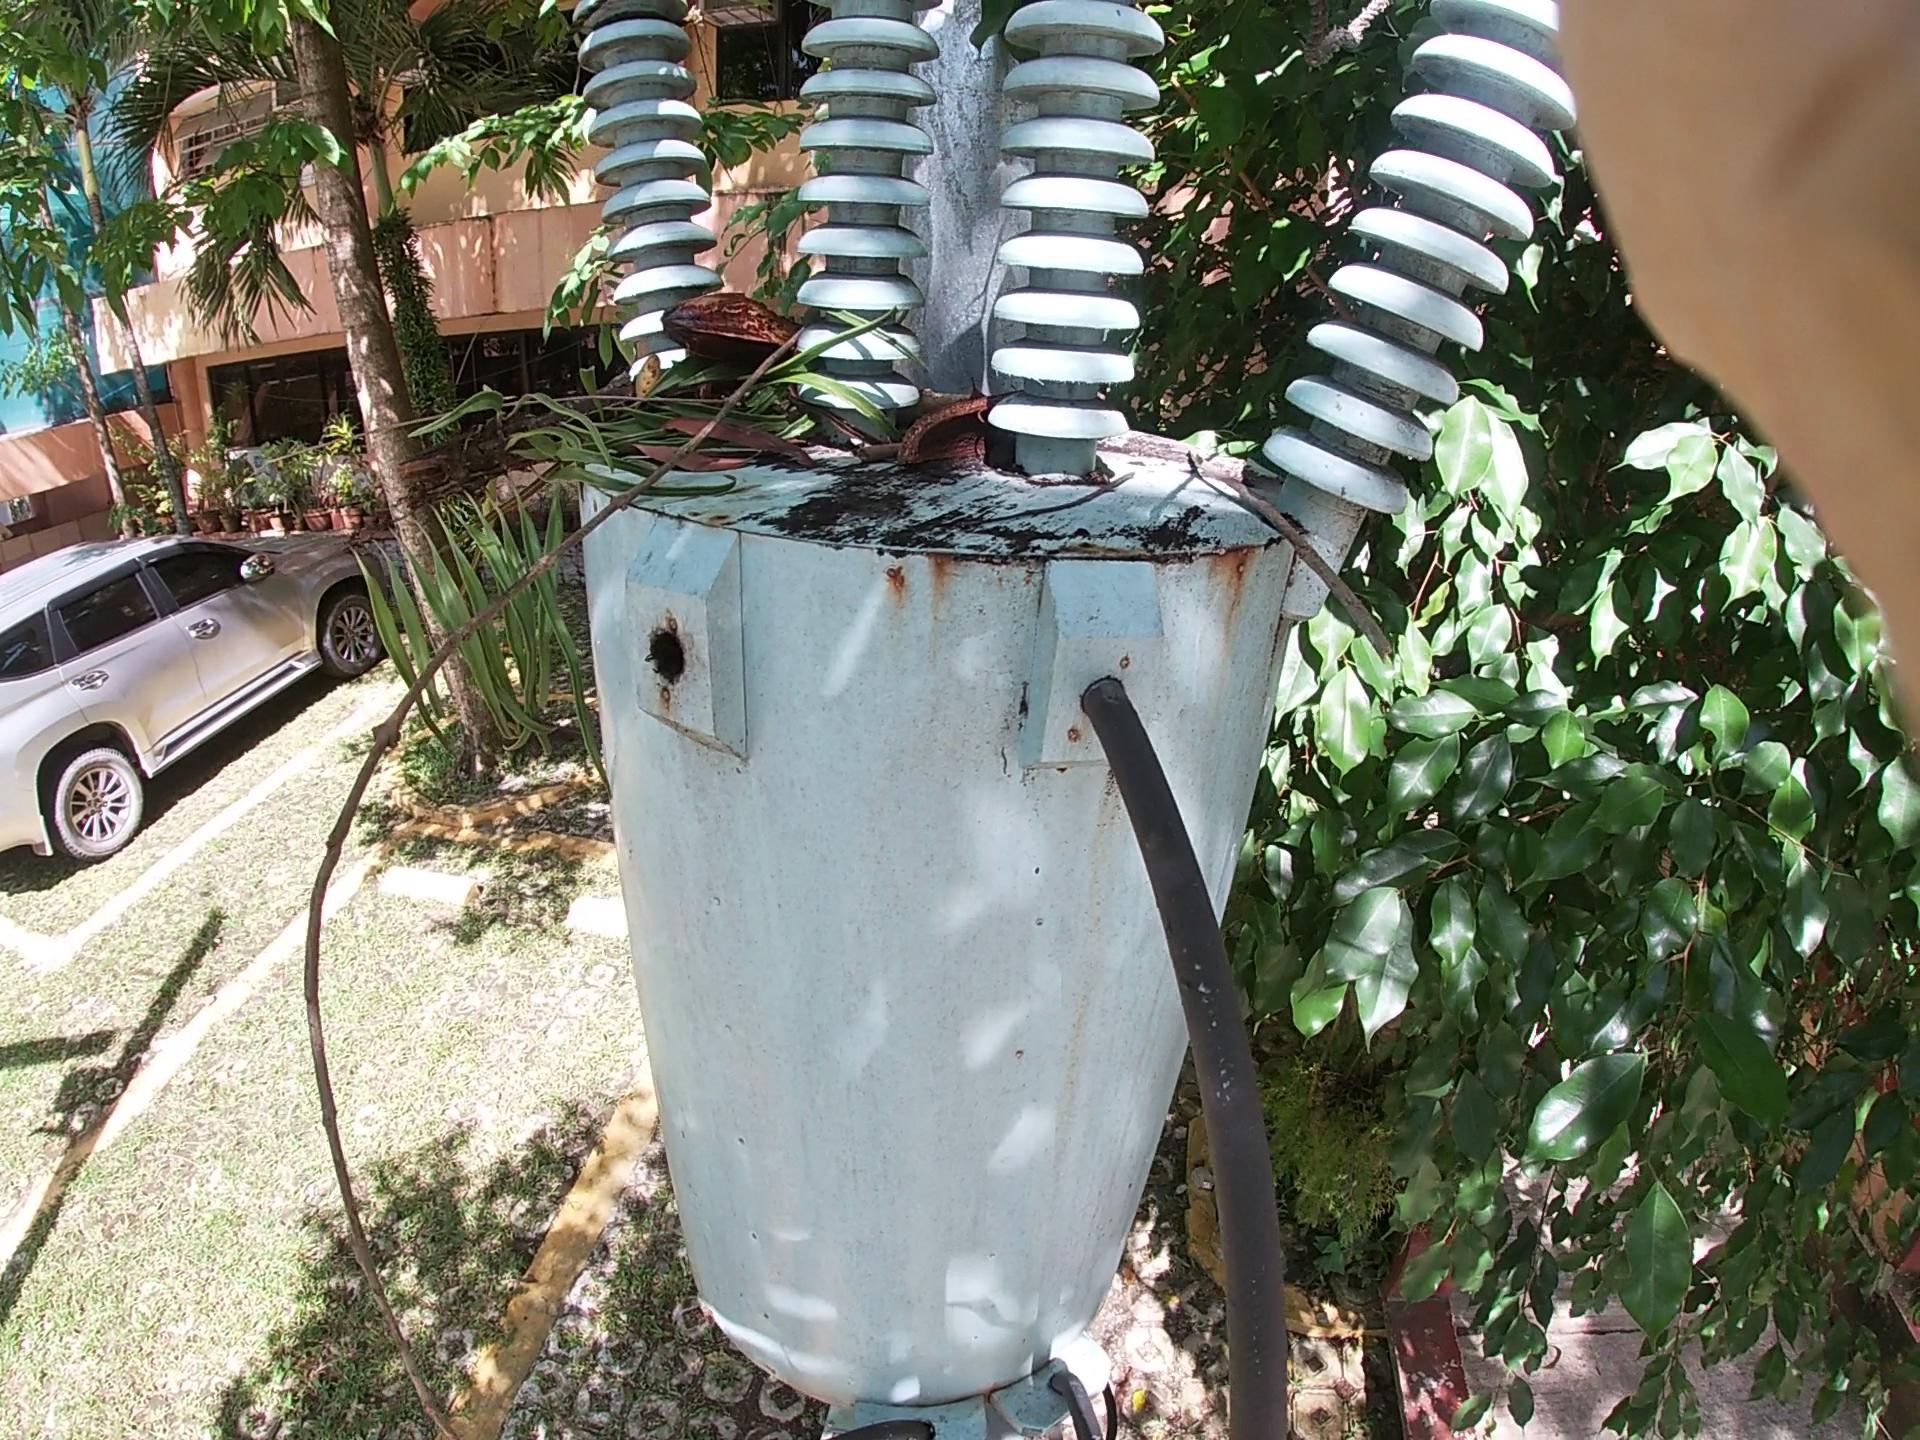branch with leaves: (417, 257, 881, 575)
leaf: (694, 417, 797, 517)
mahogany fruit: (877, 340, 1017, 498), (636, 224, 750, 399)
tree branch: (330, 277, 958, 870), (1181, 405, 1297, 629), (872, 424, 925, 510)
